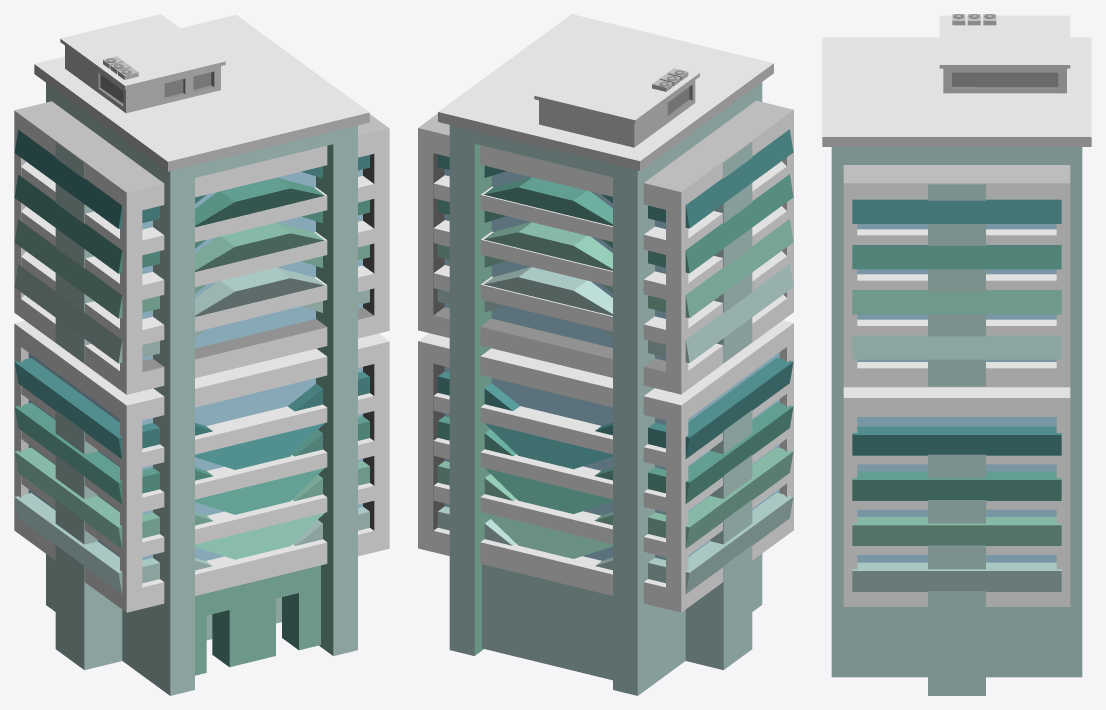
Rendered from house_high_002.fbx.
The picture shows the model from 3 angles, left to right: view 1: azimuth 30°, elevation 25°; view 2: azimuth 150°, elevation 25°; view 3: azimuth 270°, elevation 25°; orthographic projection.
Visible parts, largest first — view 1: house_high_002; view 2: house_high_002; view 3: house_high_002.
Part boxes in pixels (x1,y1,x2,y2): house_high_002: (14, 14, 389, 695); house_high_002: (418, 14, 793, 695); house_high_002: (822, 14, 1091, 695).
Size of the model in its own units: 1382 by 2795 by 1181.
